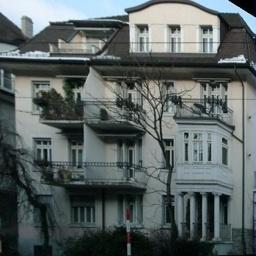building: (4, 0, 256, 246)
